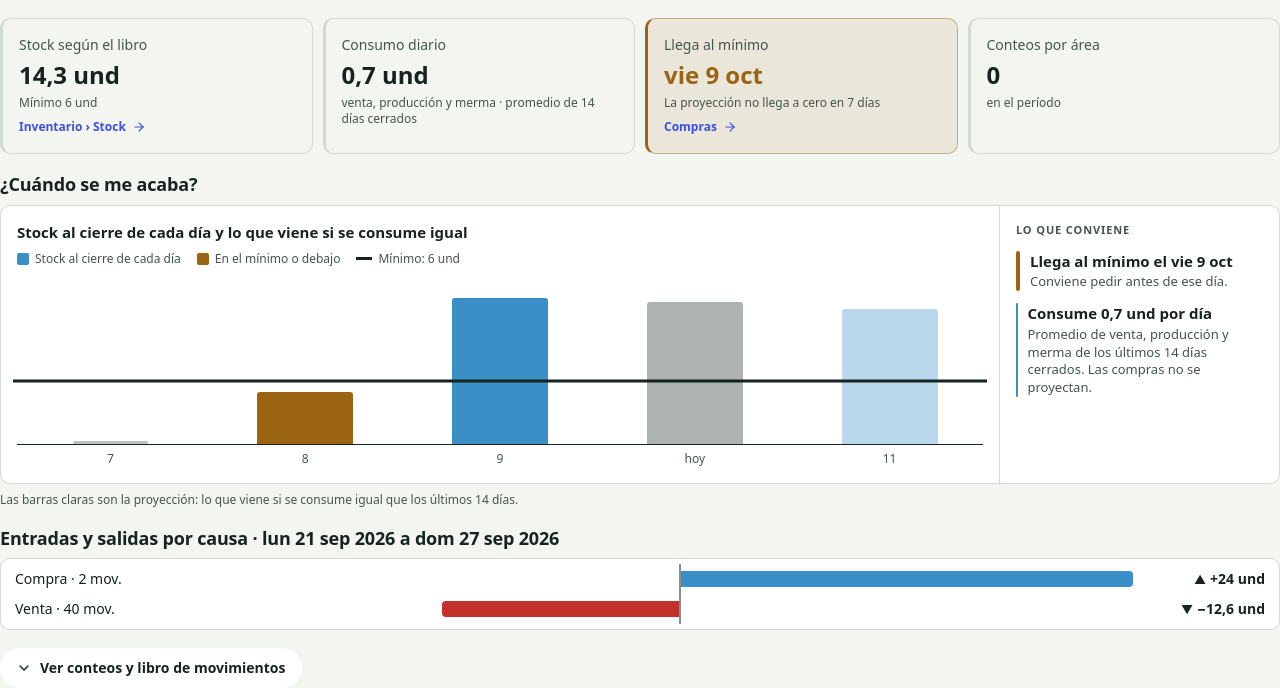
Test: Ficha de insumo › «¿Cuándo se me acaba?» dibuja la serie del servidor contra el mínimo, y las causas divergen
(page scrolled)
Expected: the text "Consumo diario" is shown, [342,35,446,55]
Expected: the text "Llega al mínimo" is shown, [664,35,769,55]
Click the button "Ver conteos y libro de movimientos" at [151, 668], box [0,648,302,687]
(page scrolled)
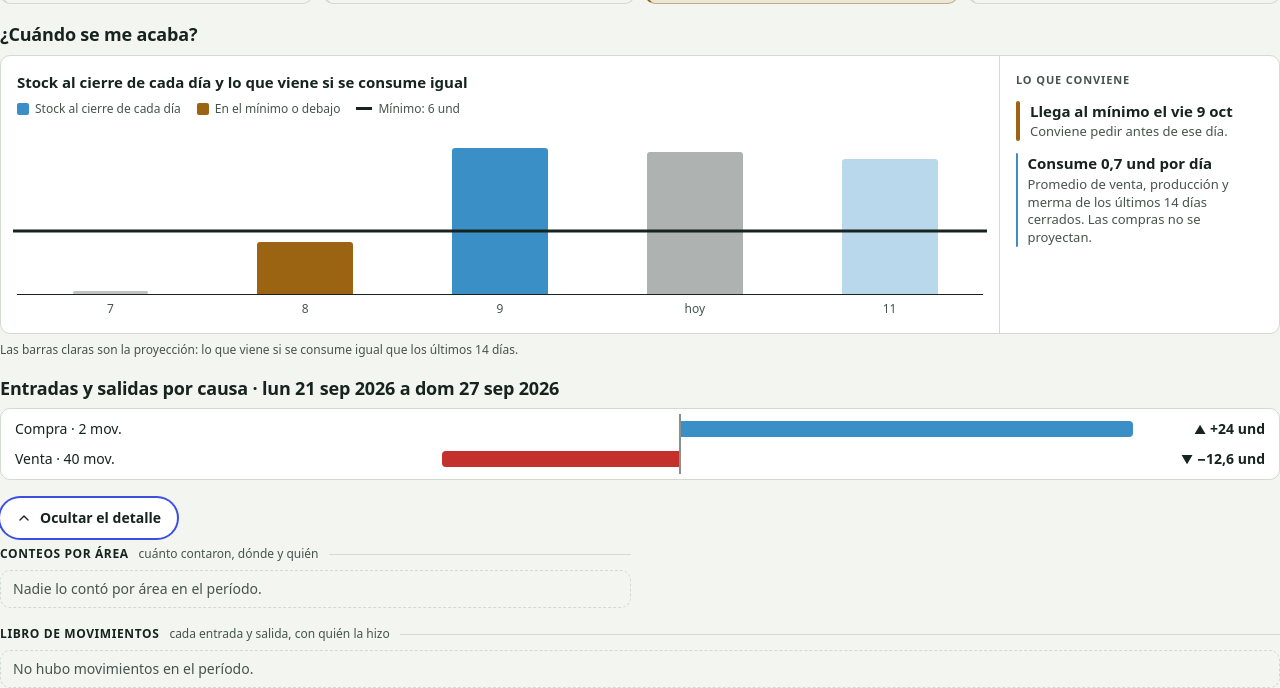
Now the element "Conteos por área" is shown, box [0,546,631,608]
